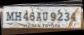character: (5, 11, 14, 21), (14, 11, 22, 21), (22, 11, 29, 21), (35, 11, 42, 21), (56, 11, 63, 21), (63, 11, 70, 21), (49, 12, 56, 21), (42, 11, 48, 21), (29, 11, 35, 20)
